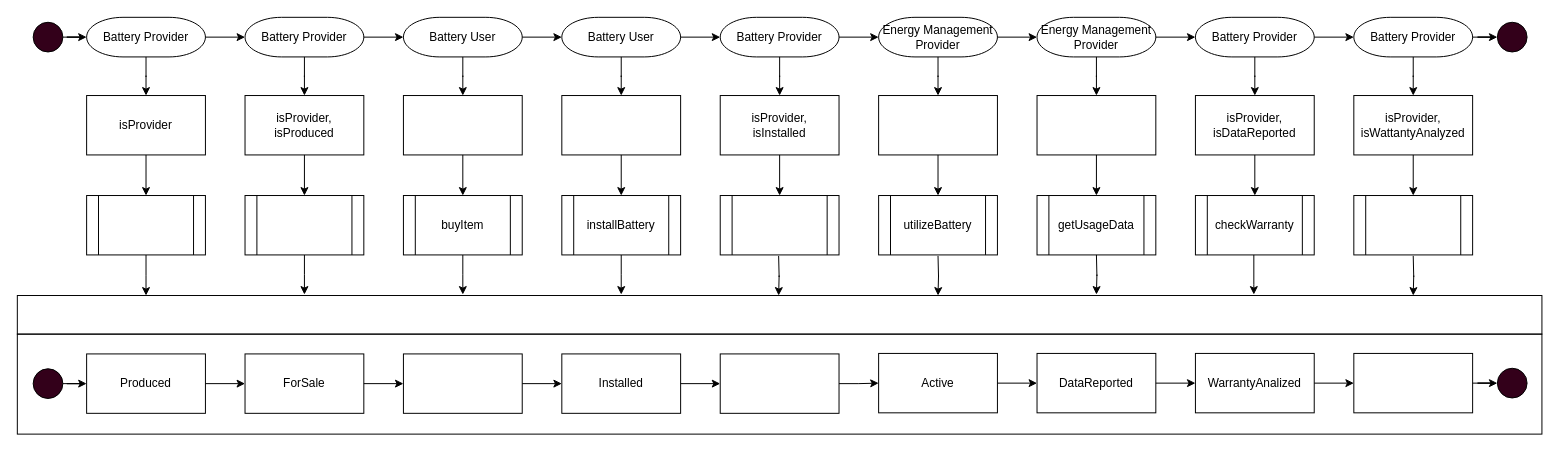
Some shapes in this 1559 by 451 pixel diagram are drawn without their labels. Here are the shapes that lost their labels. From the top down, the centre of each, then its label:
At pixel 462 125: "isUser, isForSale, isPaidEnough, isCheckValue".
At pixel 621 125: "isUser, isOwned".
At pixel 937 125: "isEMSProvider, isManaged".
At pixel 1096 125: "isEMSProvider, isActive".
At pixel 145 225: "produceBattery".
At pixel 304 225: "addItem".
At pixel 779 225: "manageBattery".
At pixel 1413 225: "updateWarranty".
At pixel 779 314: "Battery States".
At pixel 462 383: "Owned".
At pixel 779 383: "Managed".
At pixel 1413 382: "WarrantyUpdated".
